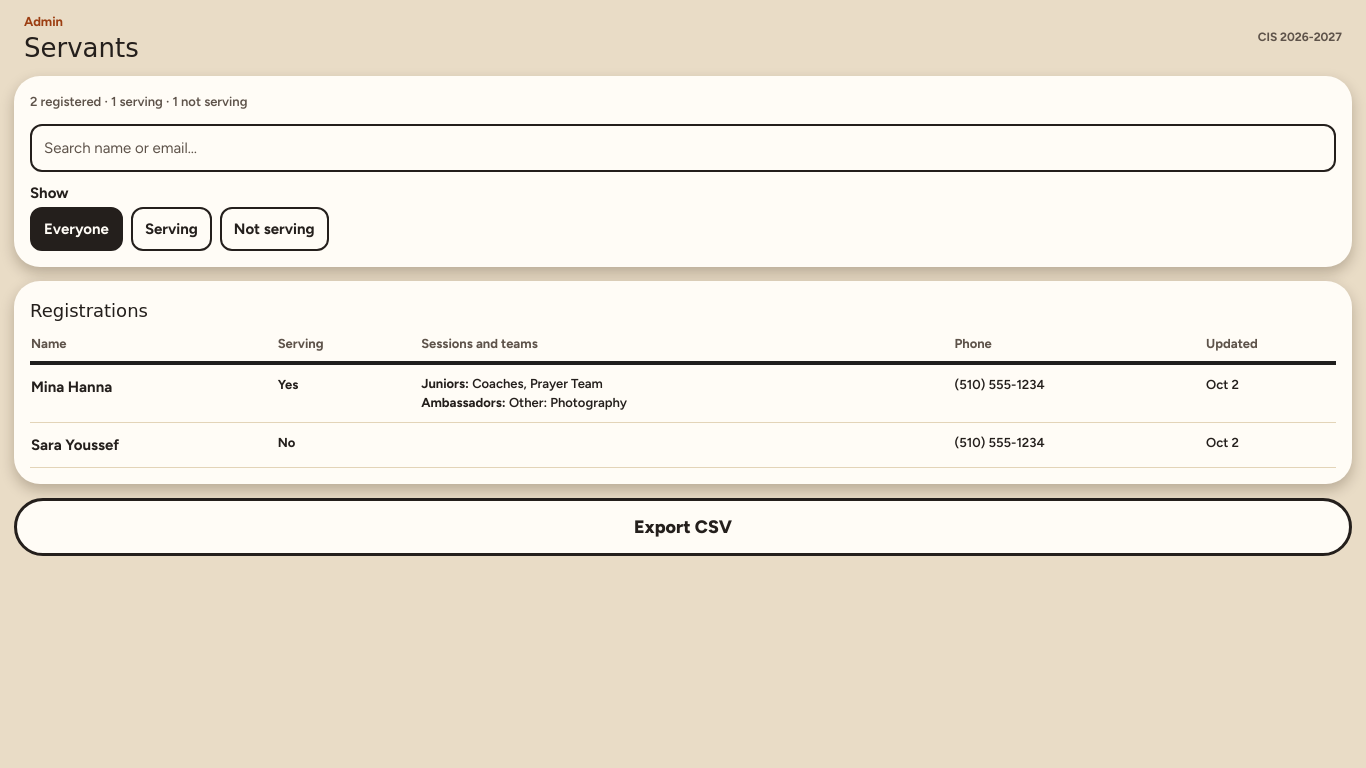
Admin servants list › filters to those serving or not serving
Click the radio button labelled "Not serving".
click(274, 229)  # box [220, 207, 328, 251]
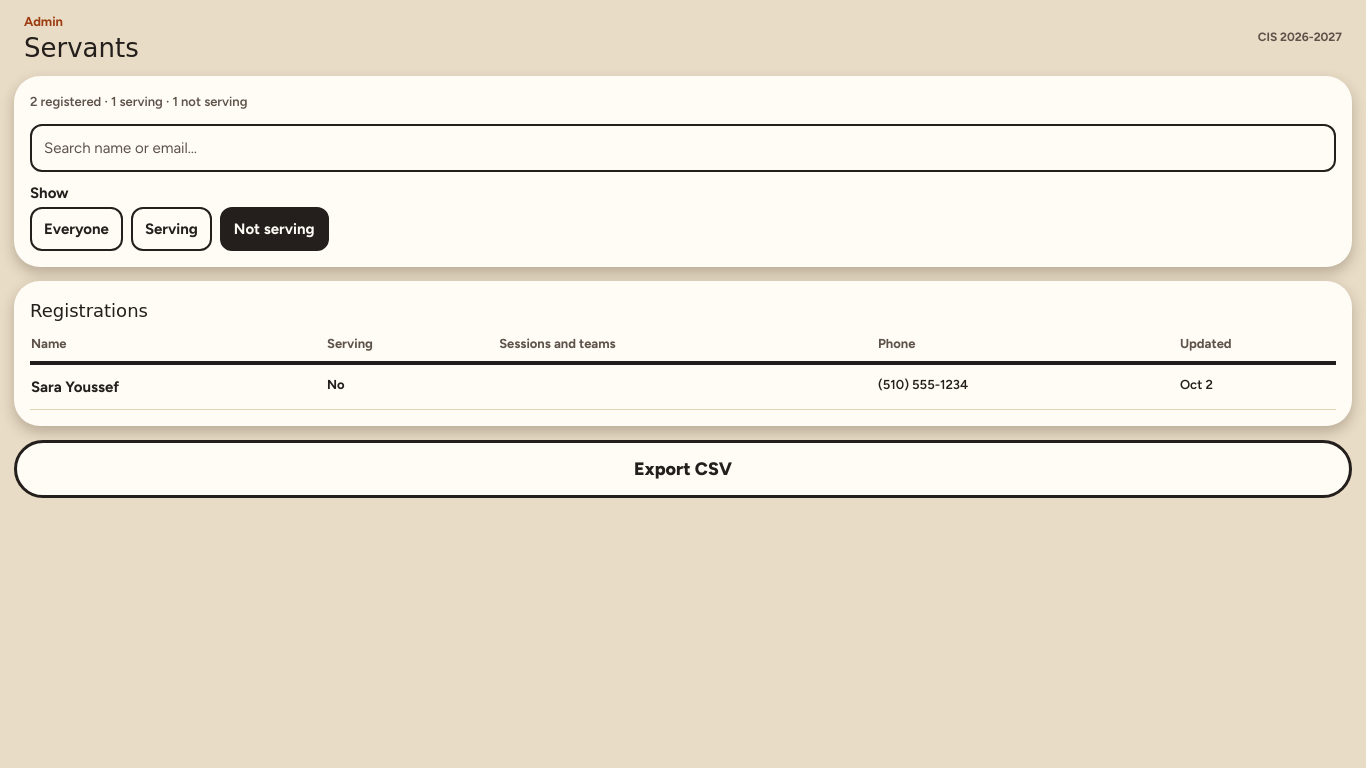
Expected: the button "Sara Youssef" is shown, [31, 378, 119, 398]
Result: the button "Mina Hanna" is gone
Click the radio button labelled "Serving".
click(171, 229)  # box [131, 207, 212, 251]
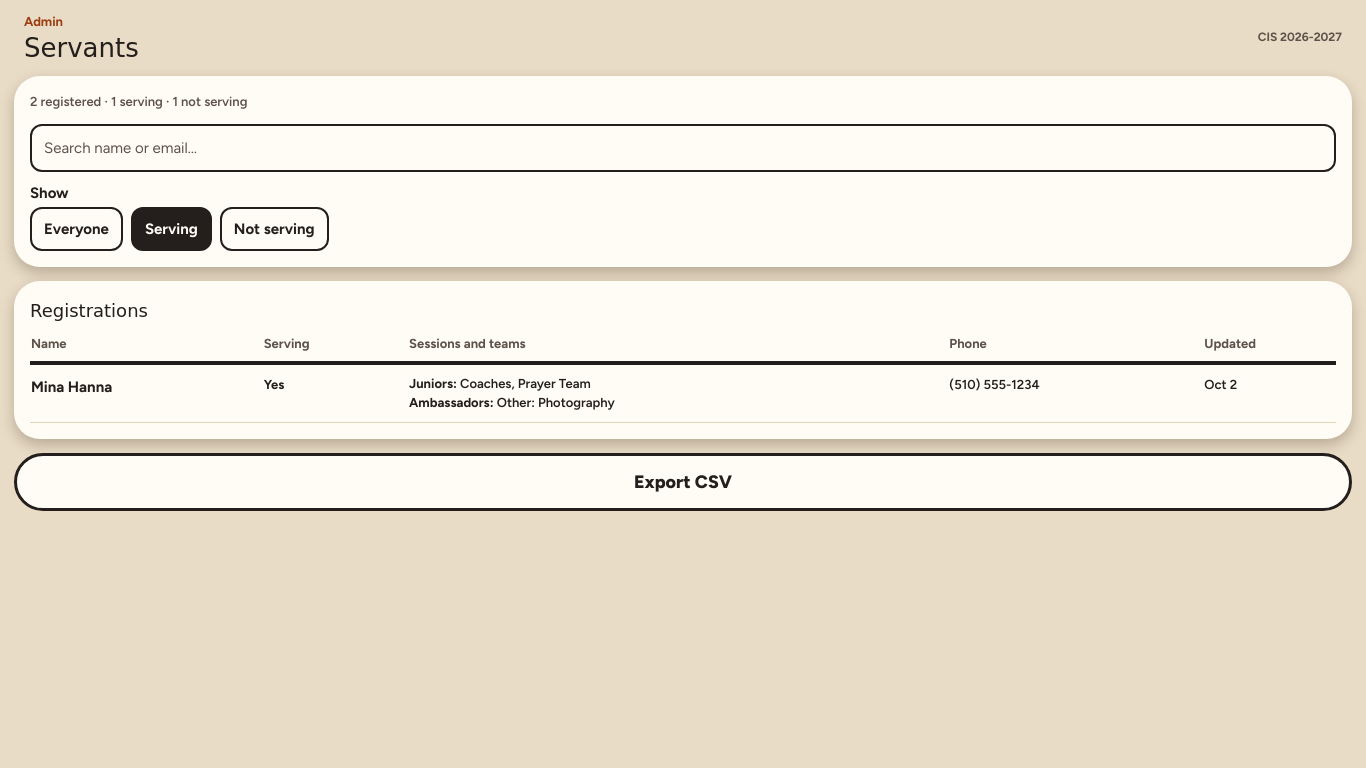
Result: the button "Mina Hanna" is shown at [31, 378, 112, 398]
Result: the button "Sara Youssef" is gone
